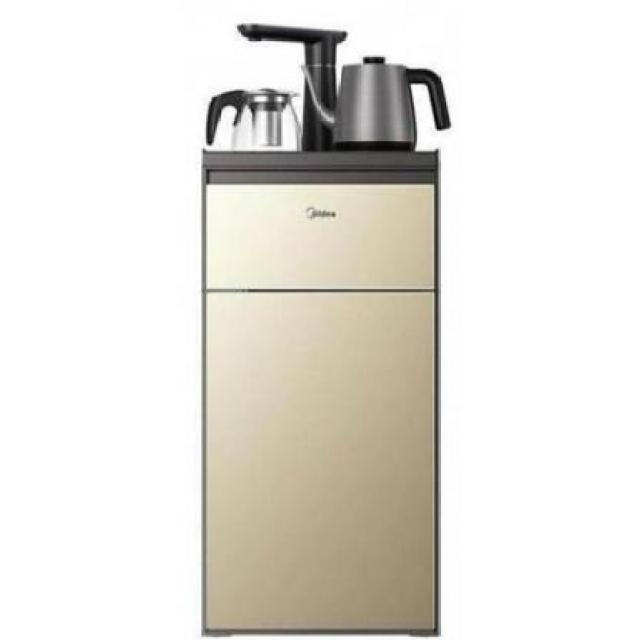cooler: (198, 17, 450, 640)
